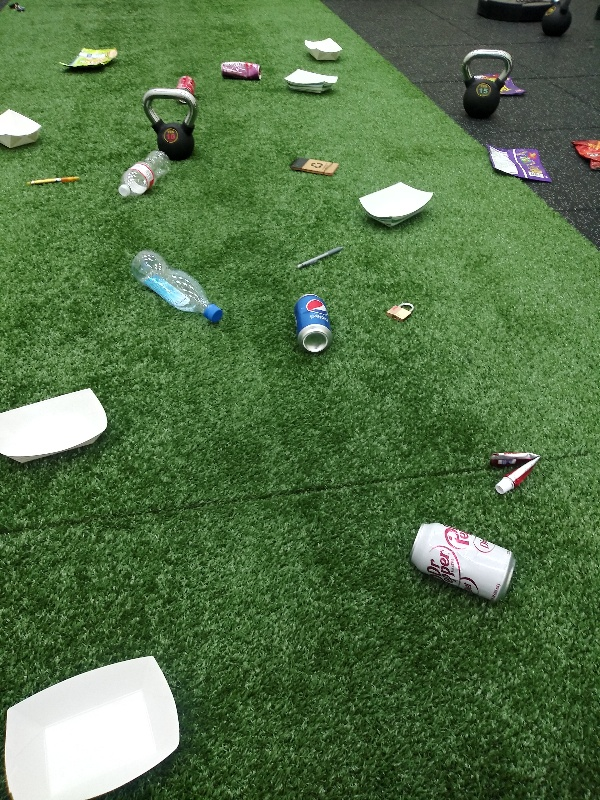bag: (479, 141, 555, 185), (53, 43, 121, 78), (477, 67, 532, 98), (572, 127, 600, 177)
bottle: (127, 246, 230, 325), (111, 147, 176, 203)
can: (405, 518, 519, 601), (289, 287, 338, 354), (214, 58, 266, 82), (174, 71, 199, 110)
plate: (3, 652, 185, 800), (1, 382, 110, 467), (354, 178, 438, 232), (1, 103, 46, 155), (278, 65, 339, 101), (296, 32, 349, 67)
